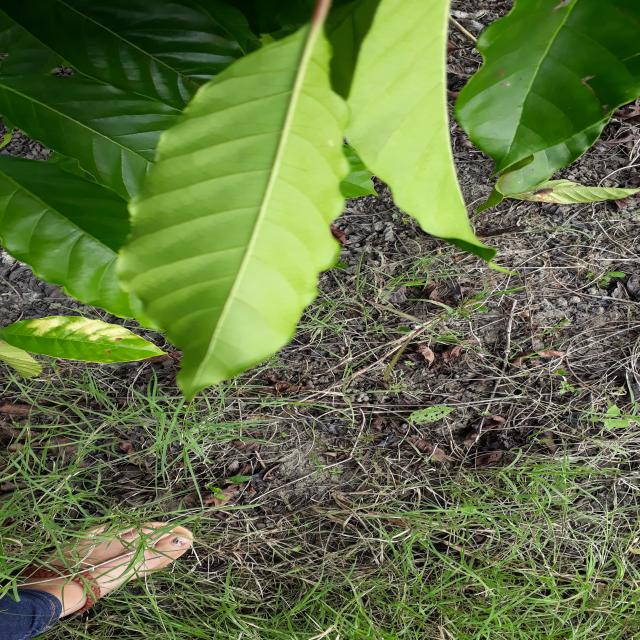Sanas: (104, 0, 373, 399)
